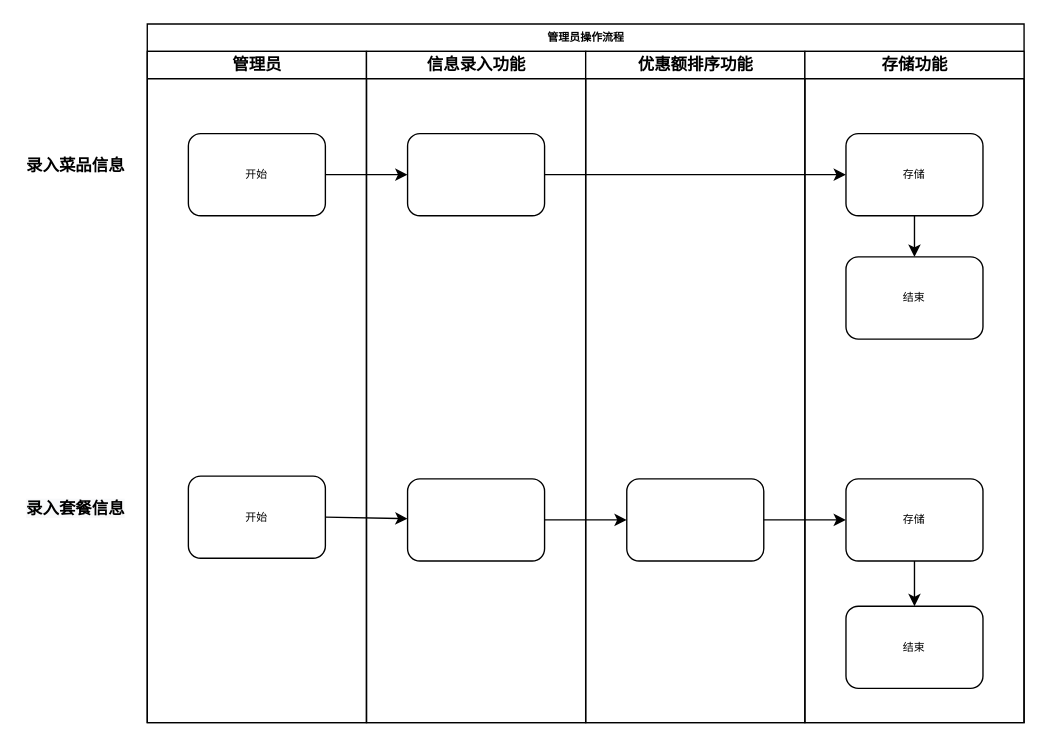
The diagram is 1048 pixels wide and 747 high, and some of its shapes have lost their labels. Here are the shapes that lost their labels. From the top down, the centre of each, then its label:
At [475,174]: "录入菜品图片/价钱/名称".
At [475,519]: "录入套餐图片/价钱/名称/菜品组合".
At [694,519]: "由大到小排序".
